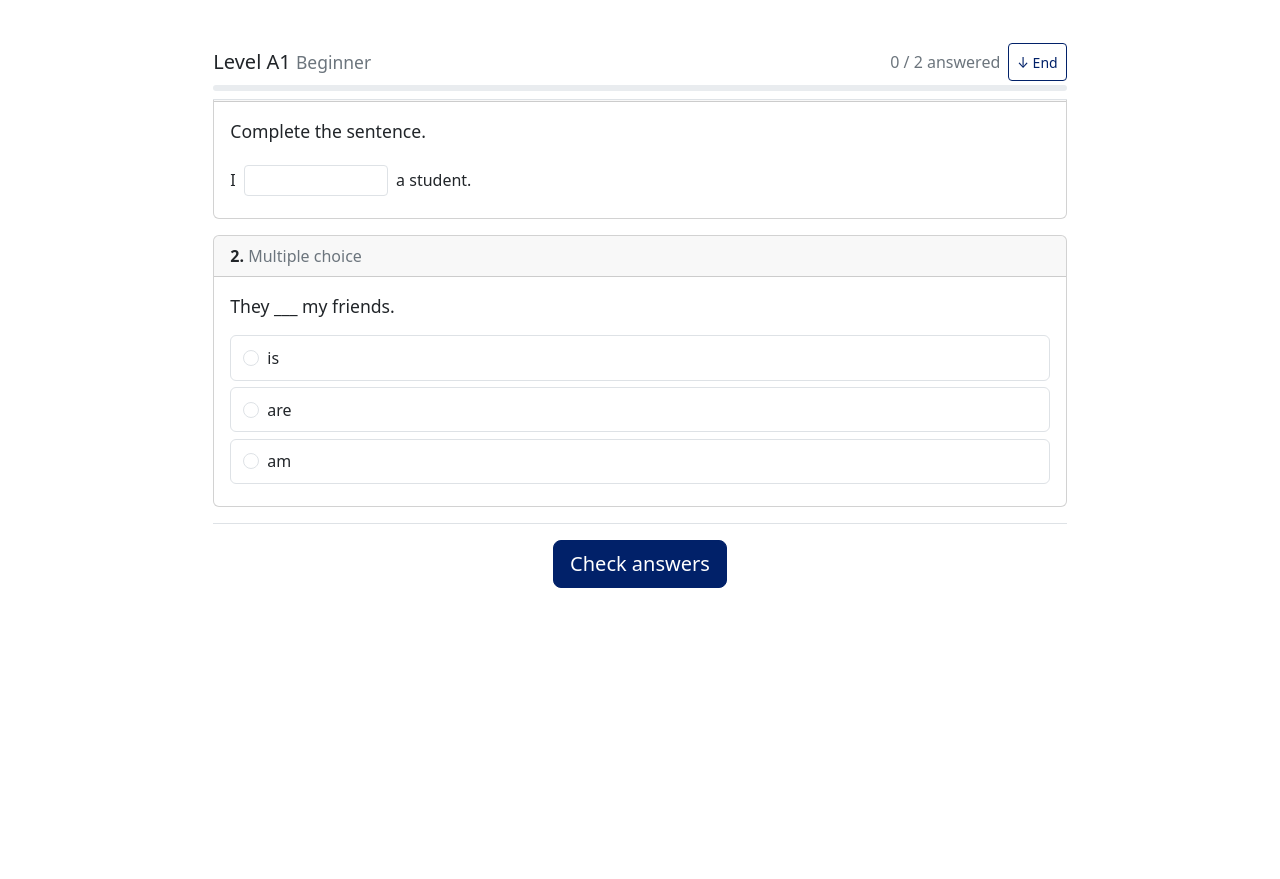
Test case: QuizPage › accessibility › focuses the title and announces a new quiz when it is ready
Click the button "Check answers".
click(640, 564)  # box x1=553 y1=540 x2=727 y2=588
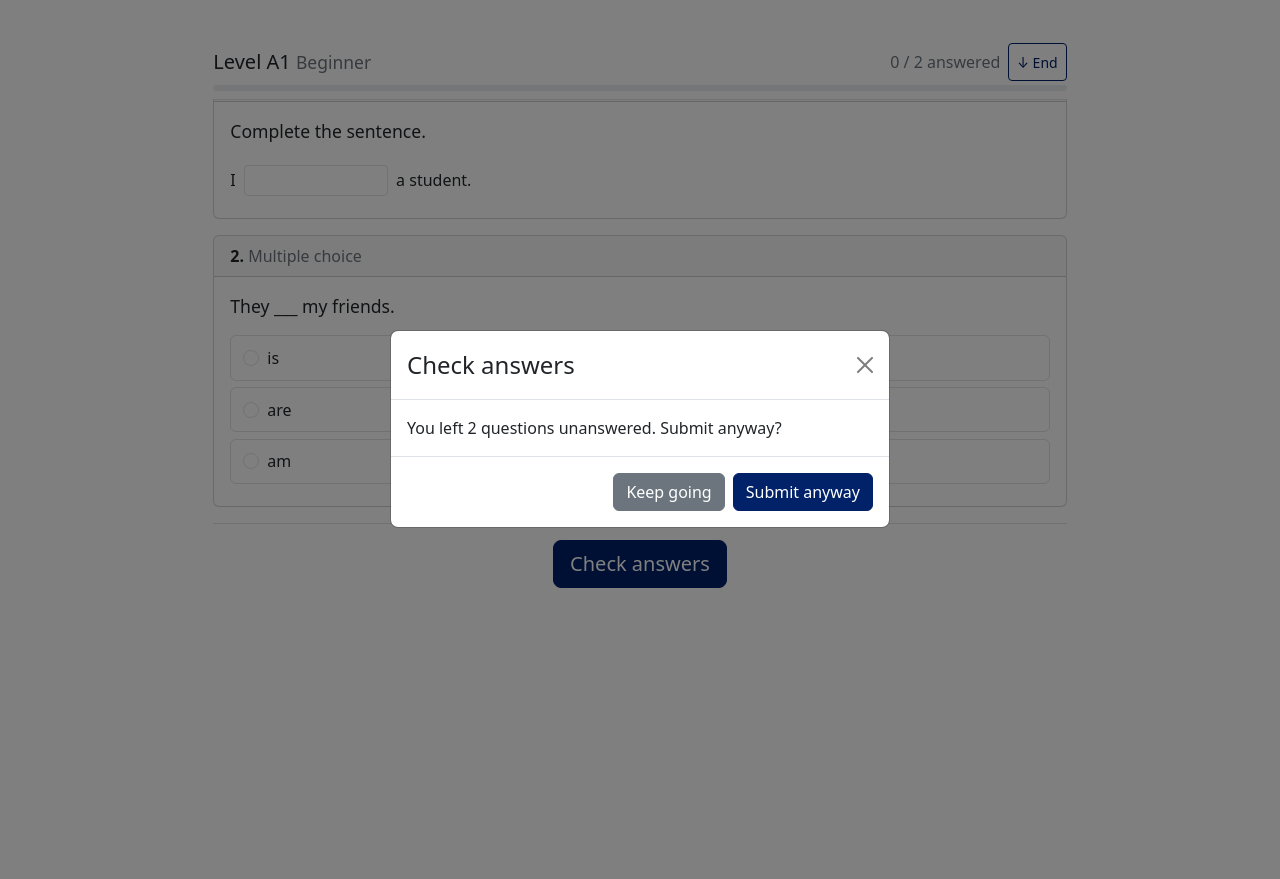
Click the button "Submit anyway".
click(803, 492)  # box x1=733 y1=473 x2=873 y2=511
(page scrolled)
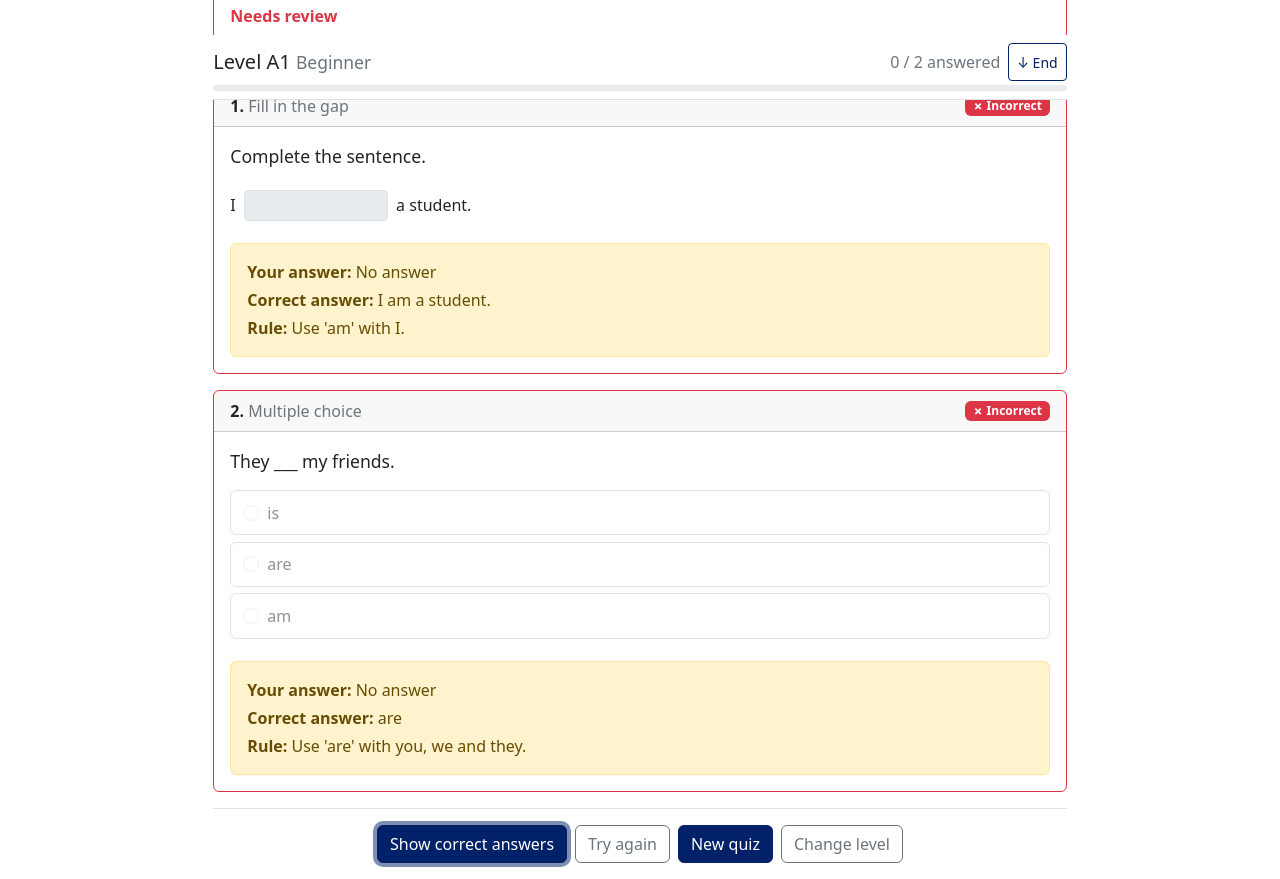
Click the button "New quiz".
click(726, 844)  # box x1=678 y1=825 x2=773 y2=863
(page scrolled)
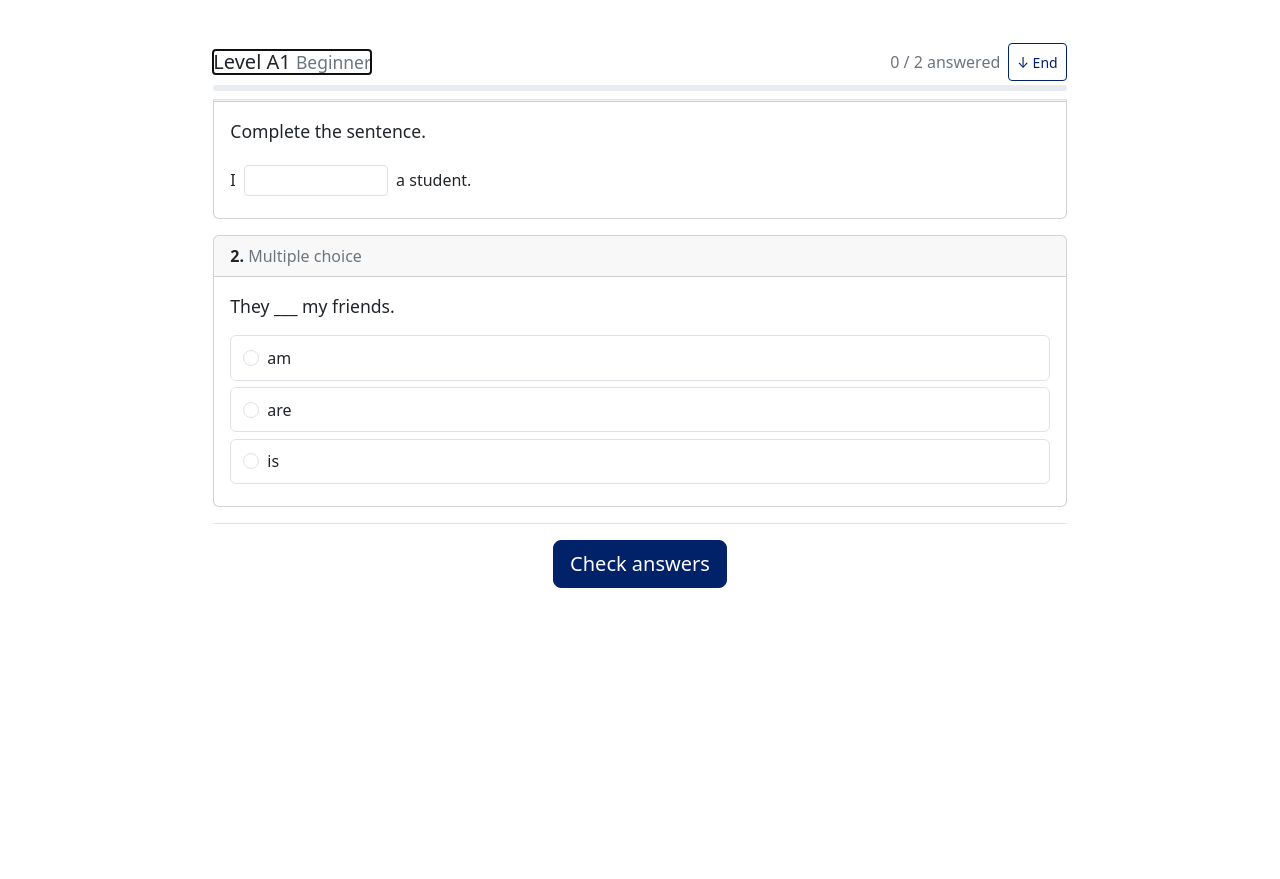
Result: the button "Check answers" is shown at x1=553 y1=540 x2=727 y2=588
